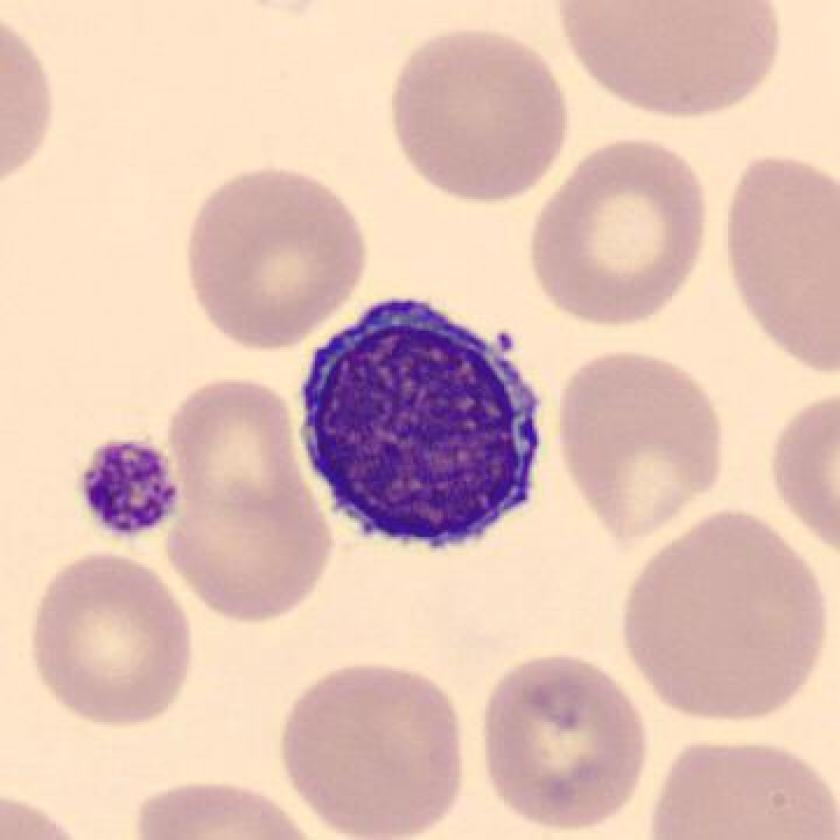lymphocyte: (286, 281, 561, 575)
platelets: (75, 434, 183, 545)
